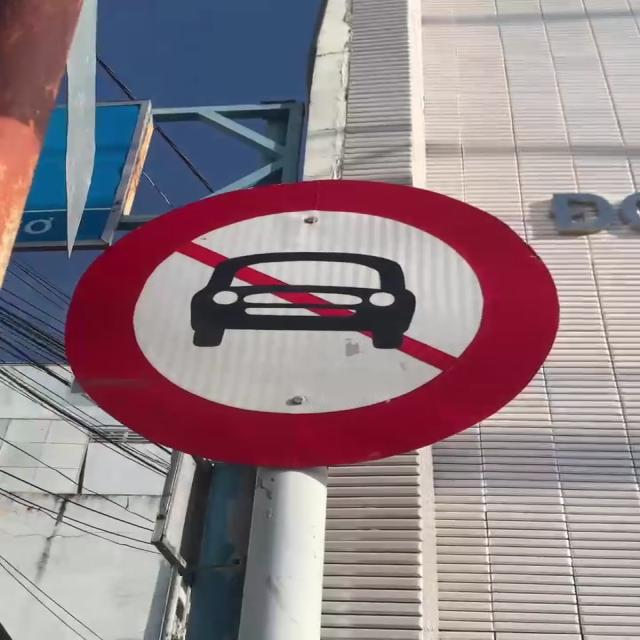Cam_O_To: (61, 178, 560, 470)
